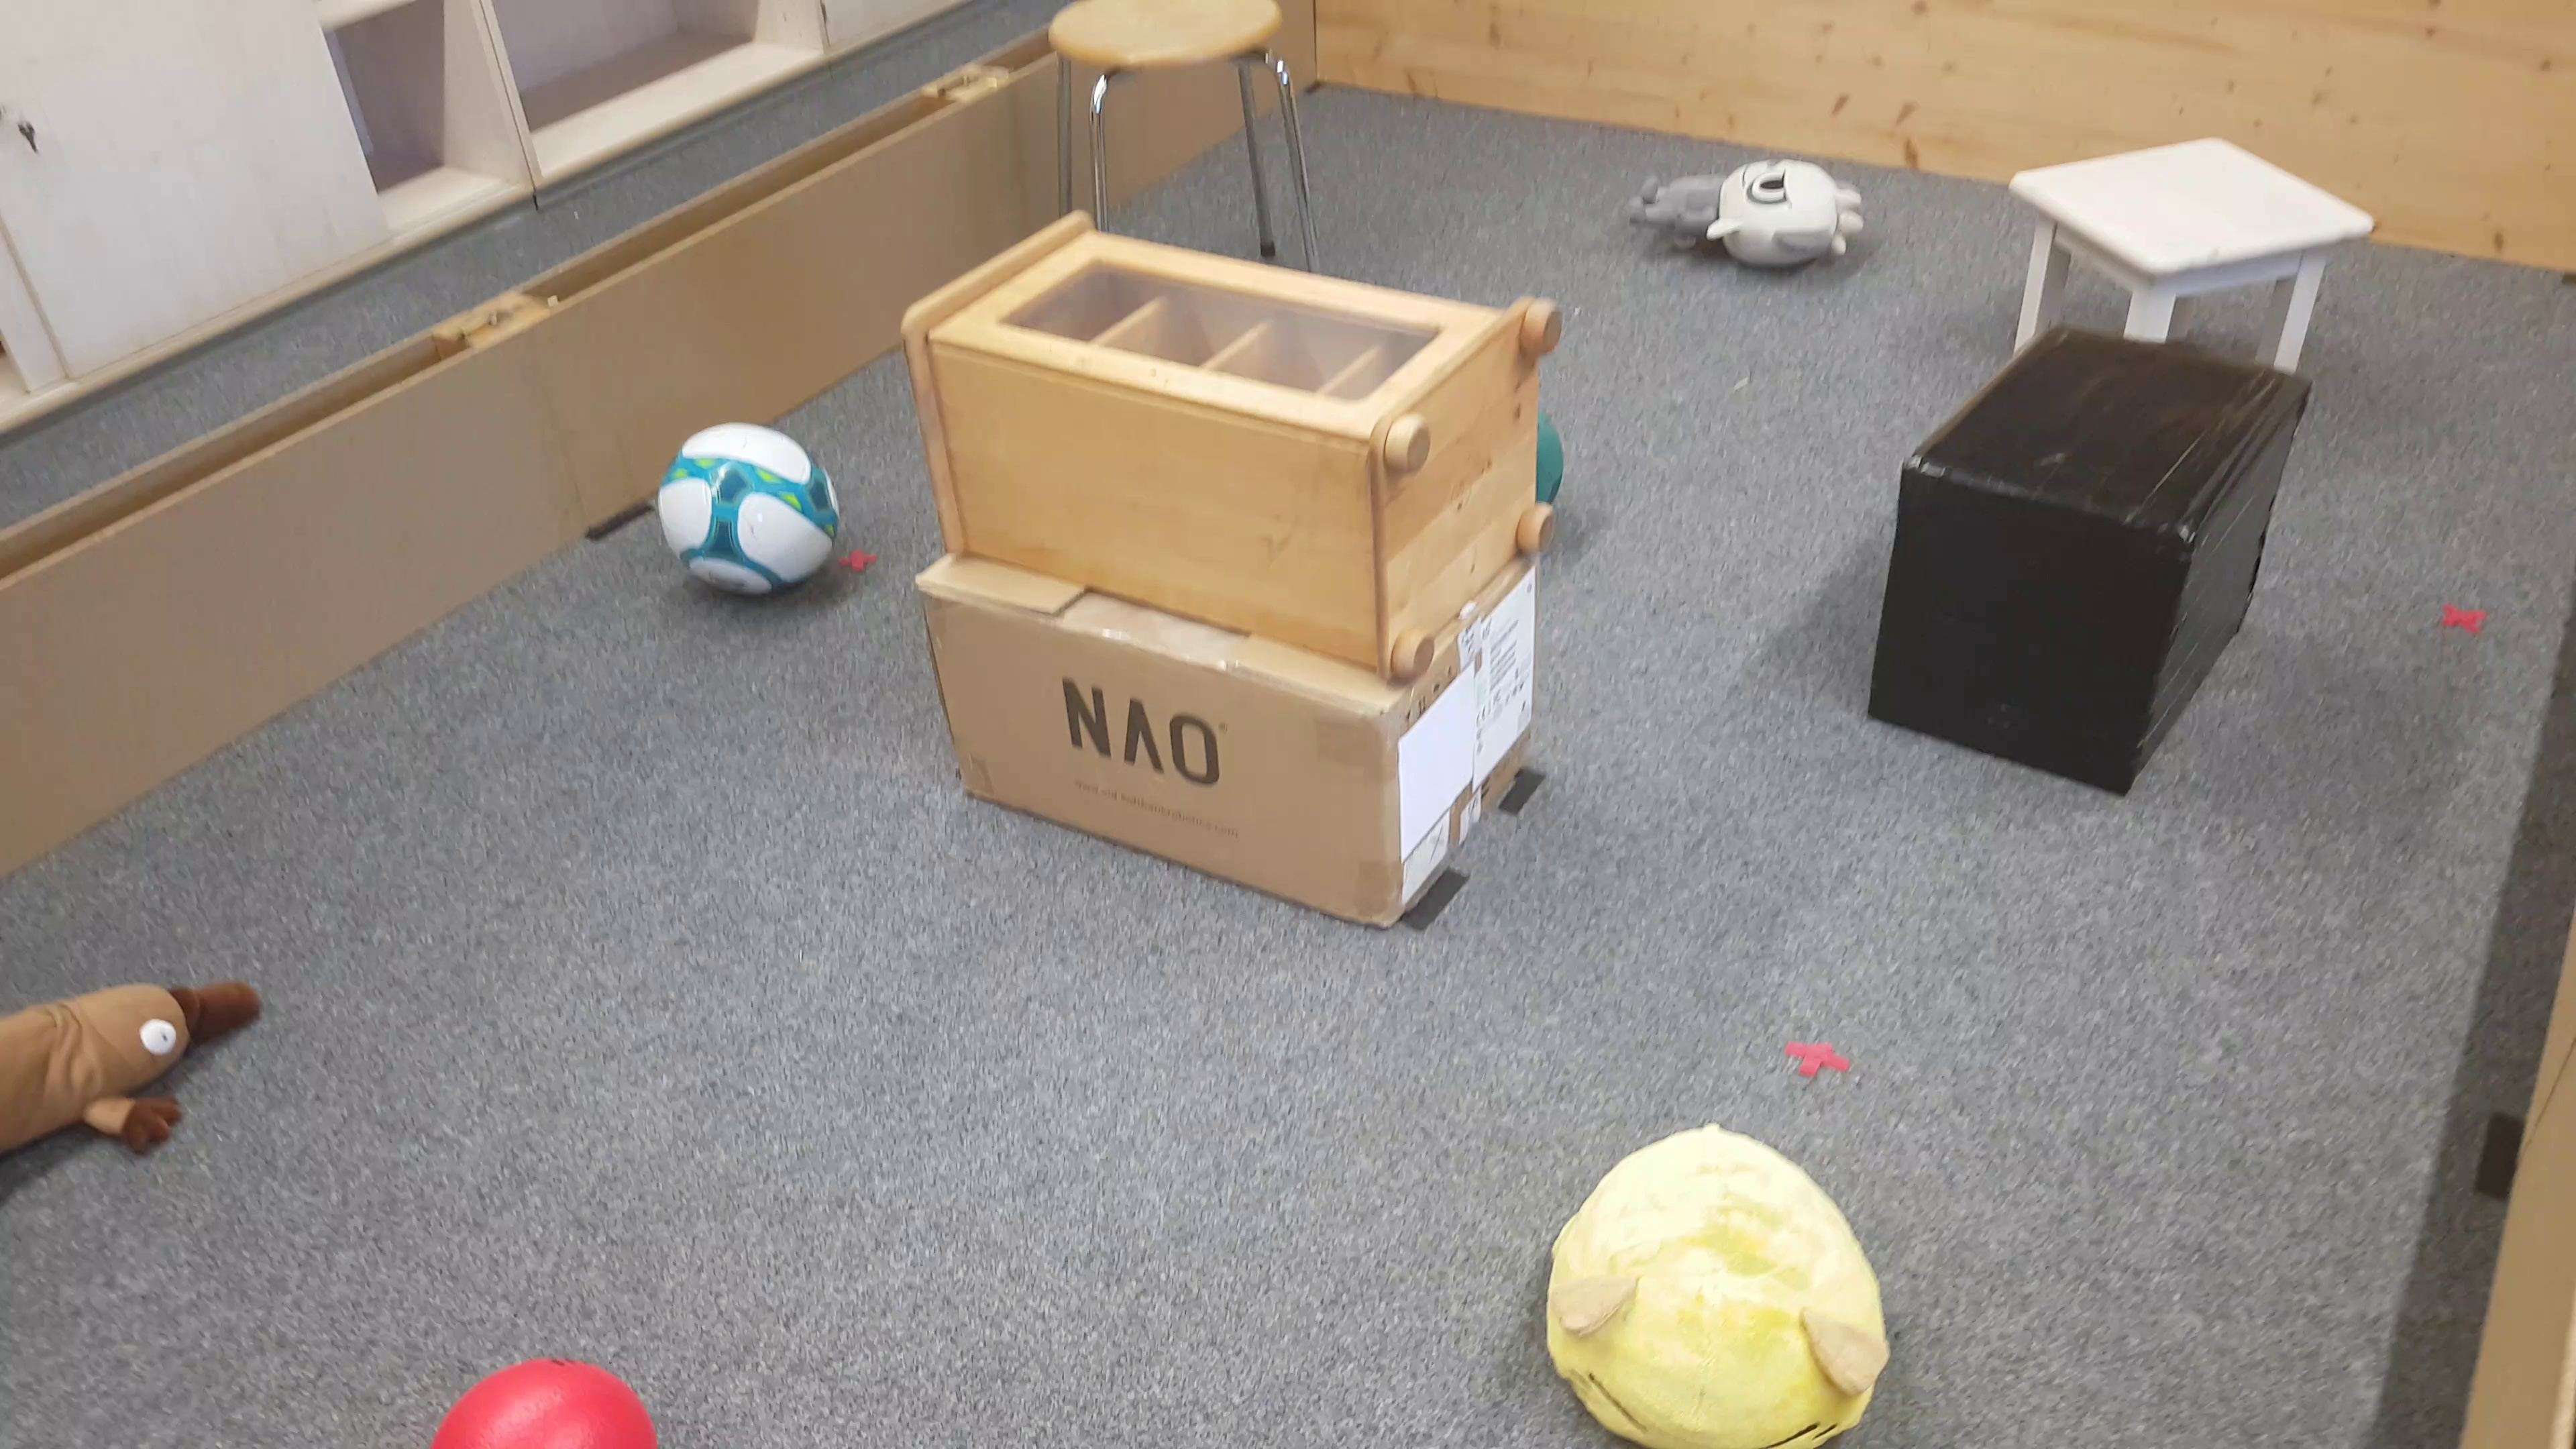grasp: (1536, 1115, 1893, 1449), (7, 975, 262, 1178), (1624, 154, 1865, 285)
kick: (660, 419, 847, 598), (421, 1357, 663, 1449)
push: (1858, 329, 2318, 800)
